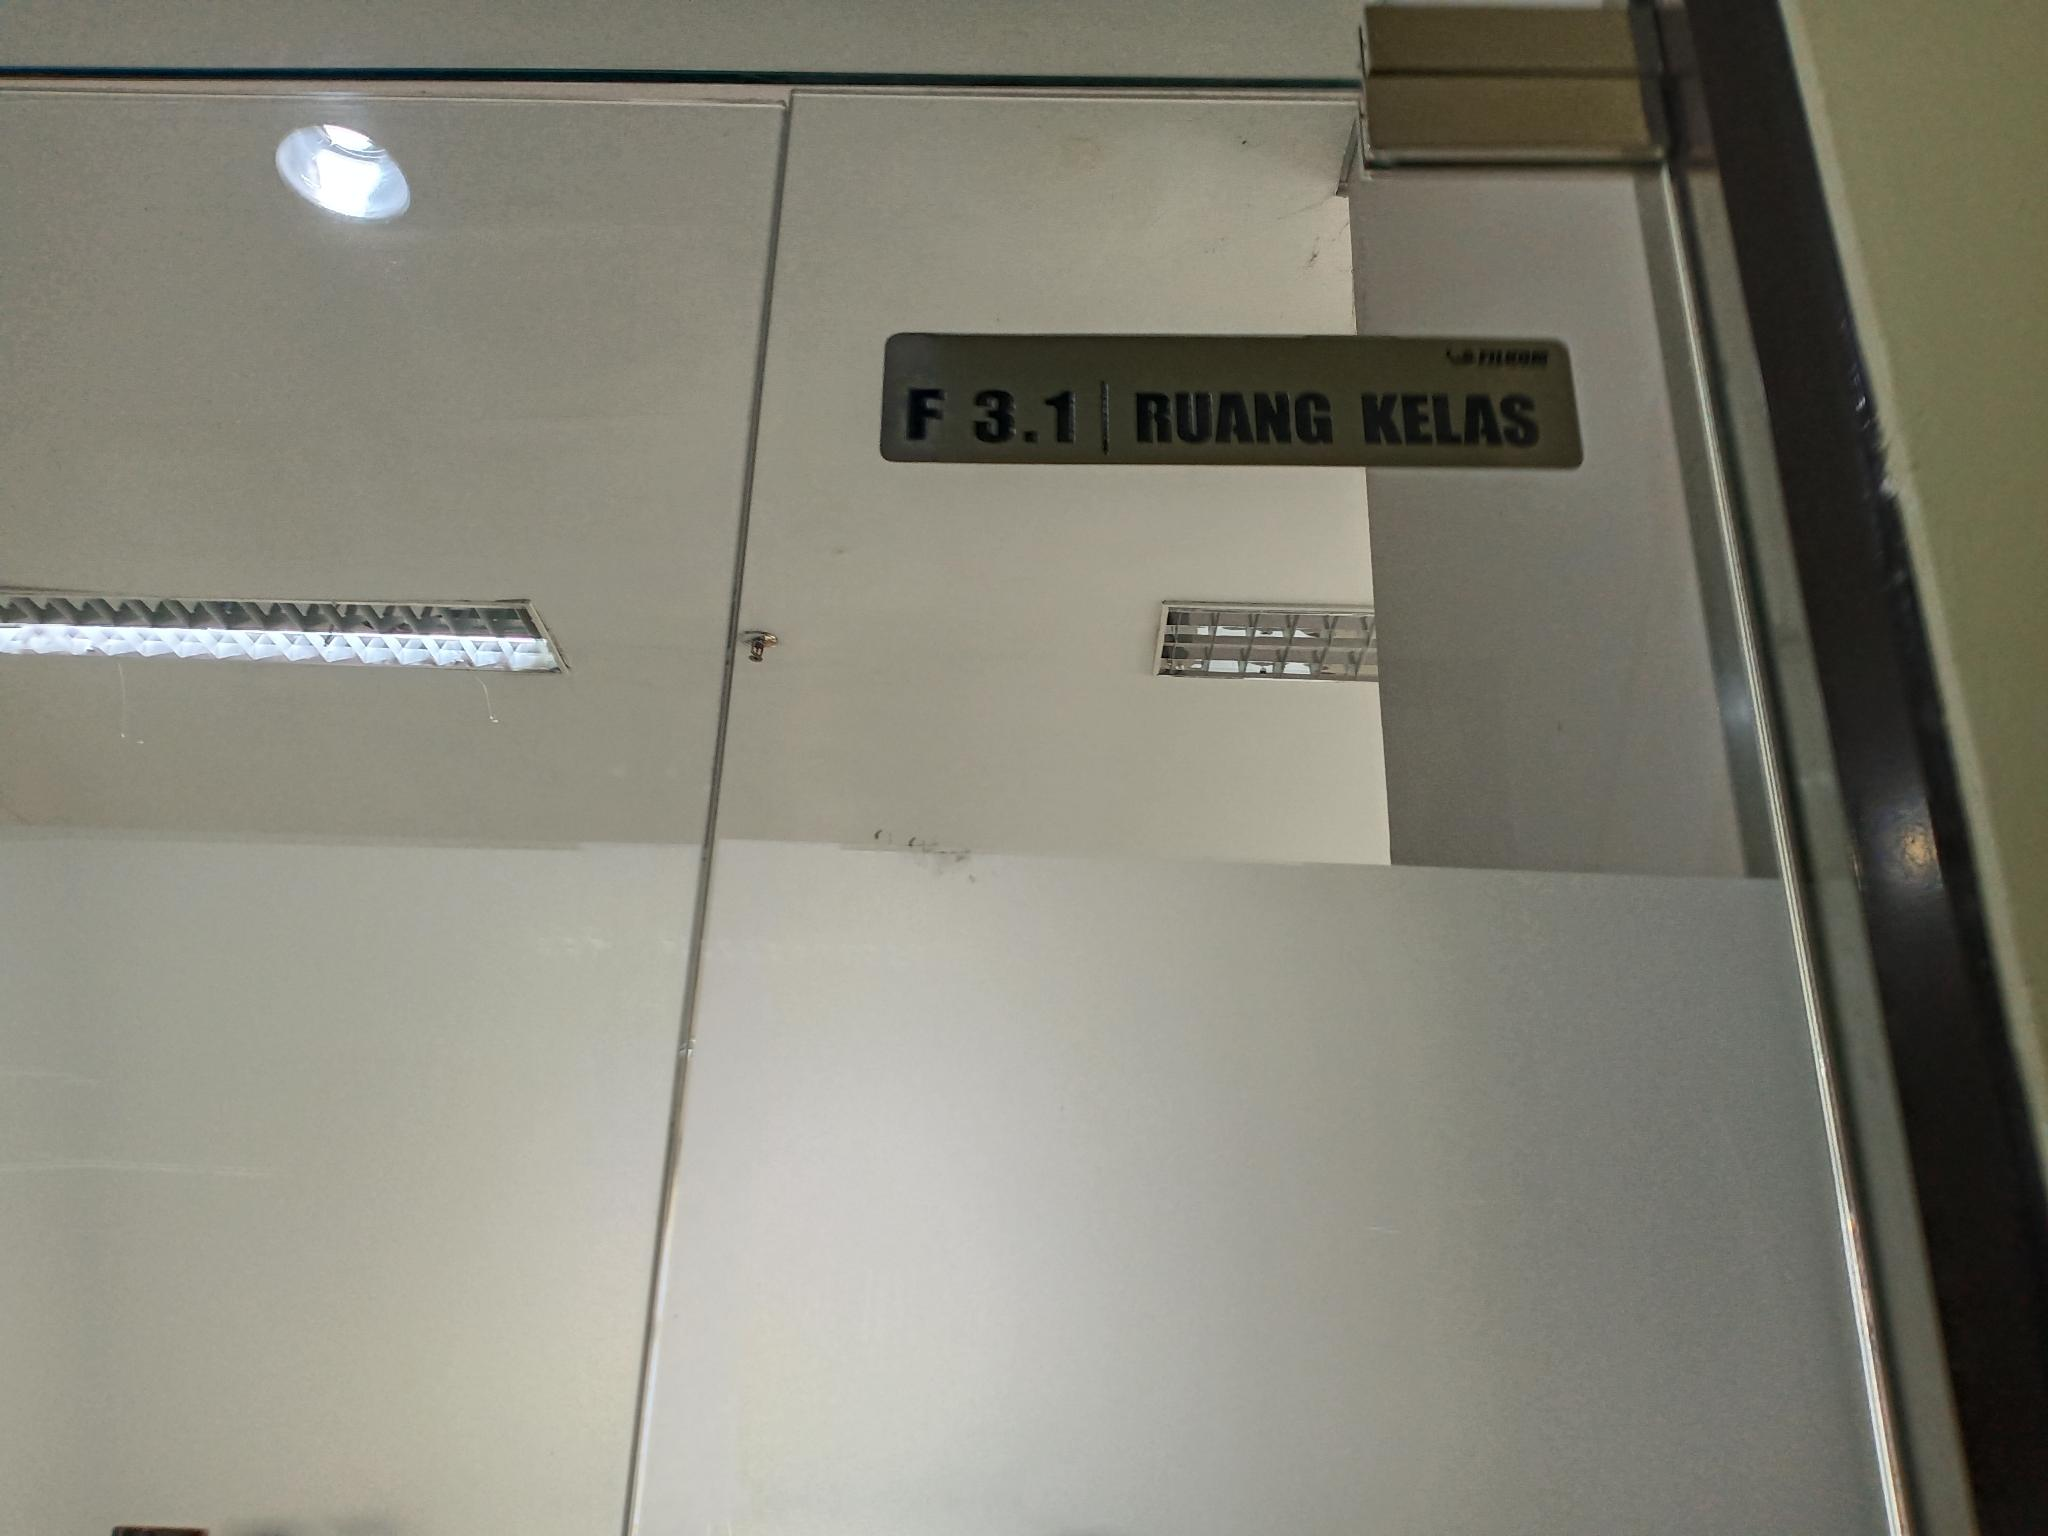plate: (879, 331, 1584, 468)
